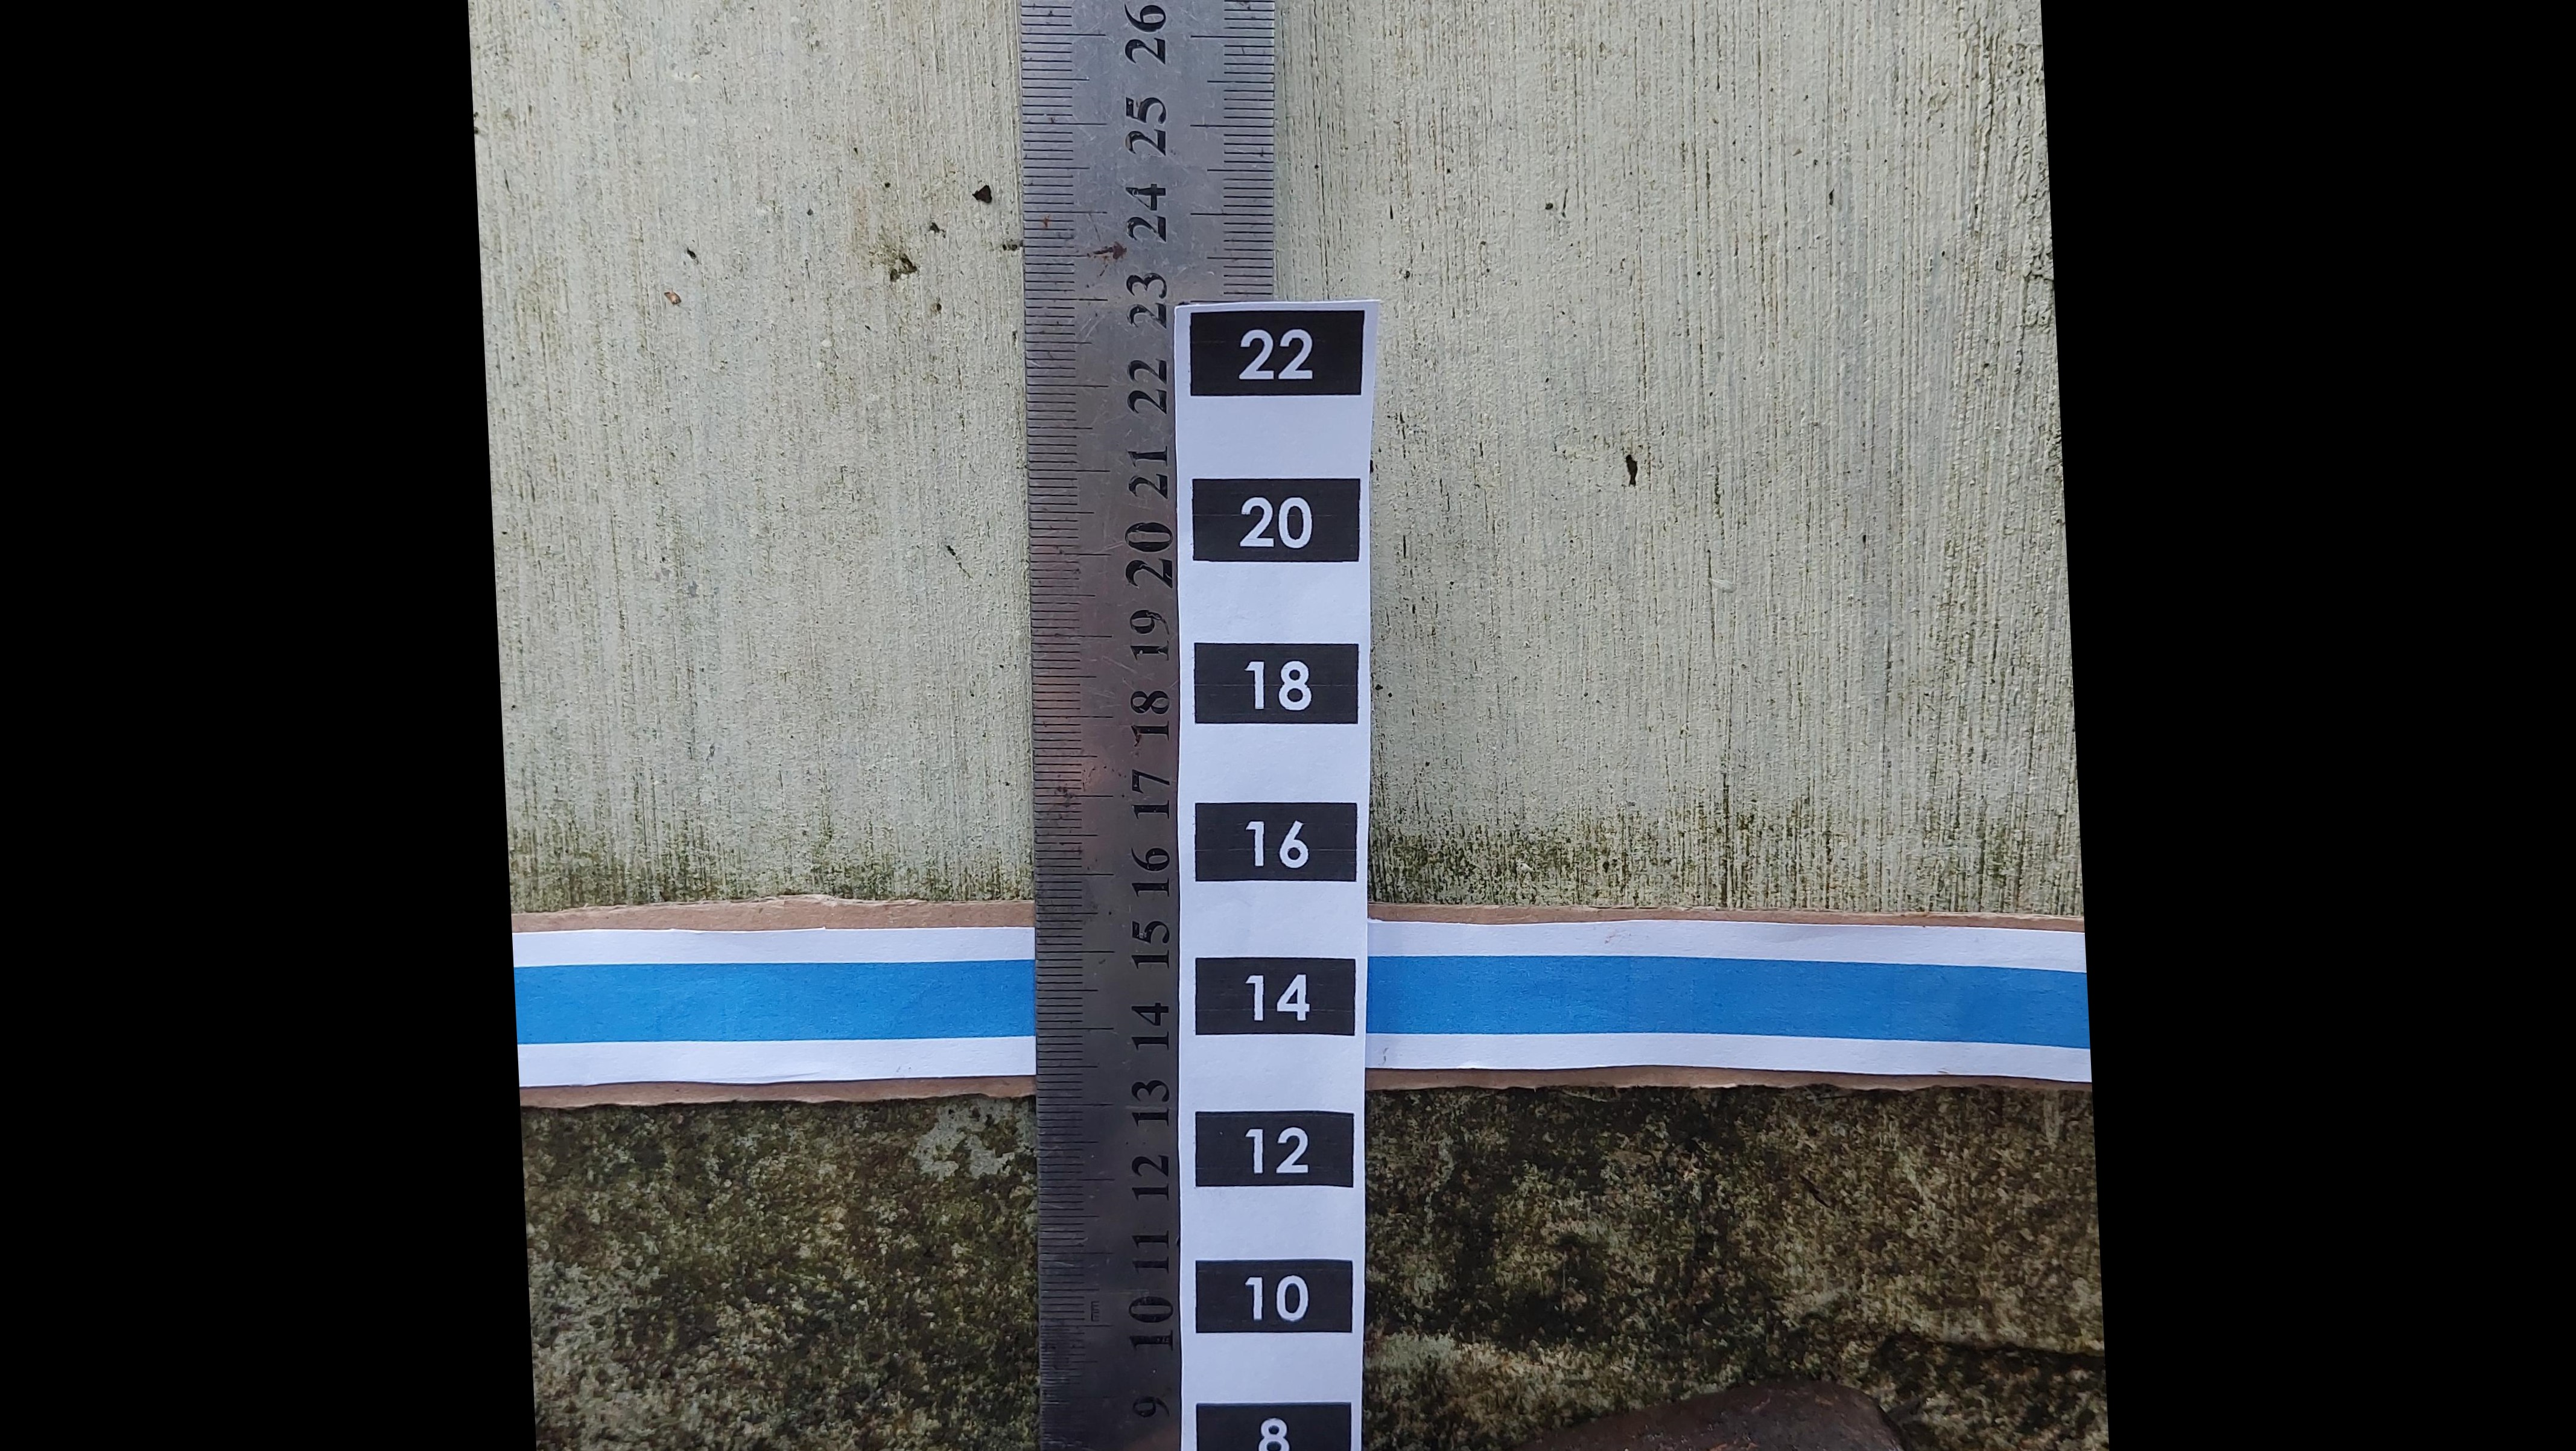kotak_2x1: (1189, 310, 1366, 393), (1194, 642, 1364, 725), (1191, 478, 1359, 561), (1194, 803, 1355, 879), (1192, 1111, 1357, 1186), (1194, 957, 1357, 1032), (1198, 1262, 1350, 1331)
